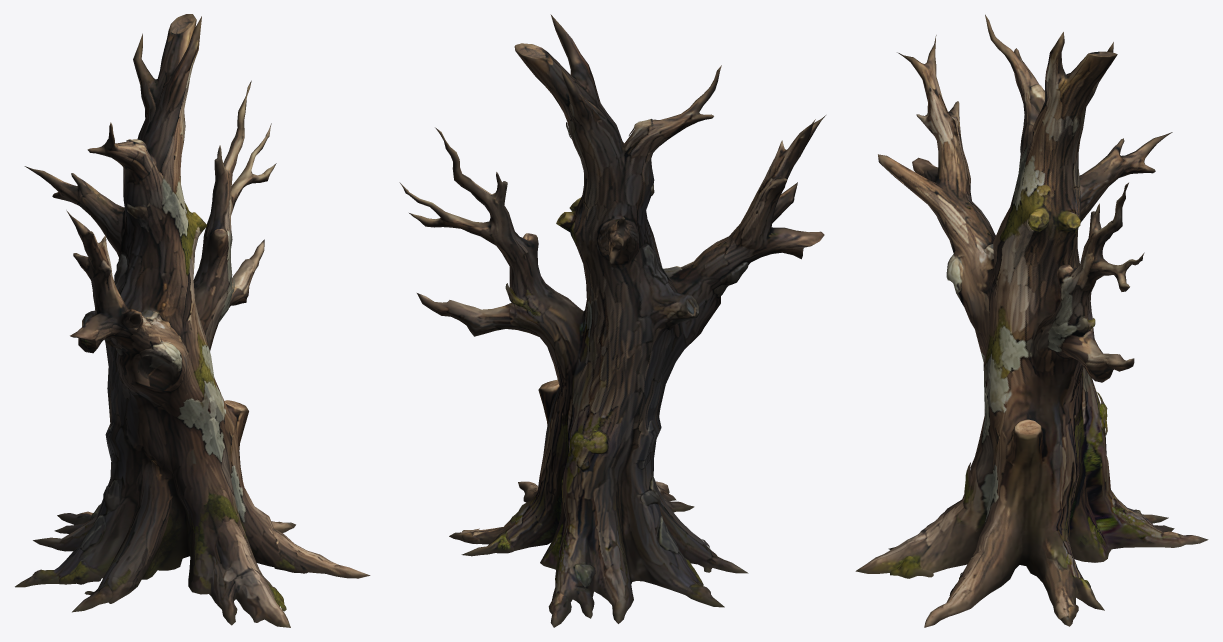
The model's file is act1_kit_v1_dead_tree.glb.
The picture shows the model from 3 angles, left to right: view 1: azimuth 30°, elevation 25°; view 2: azimuth 150°, elevation 25°; view 3: azimuth 270°, elevation 25°; orthographic projection. The views are drawn at different scales.
Visible parts, largest first — view 1: act1_kit_v1_dead_tree; view 2: act1_kit_v1_dead_tree; view 3: act1_kit_v1_dead_tree.
Part boxes in pixels (box(x1,y1,x2,y2)): act1_kit_v1_dead_tree: box(15, 14, 370, 627); act1_kit_v1_dead_tree: box(399, 14, 825, 627); act1_kit_v1_dead_tree: box(855, 14, 1208, 627).
Size of the model in its own units: 0.6018 by 1 by 0.5854.
1 material, 1 textured.
